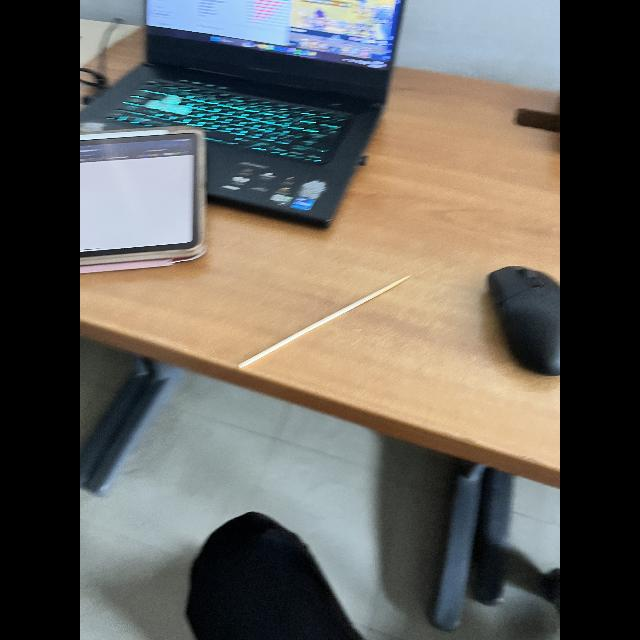stick: (225, 268, 420, 382)
